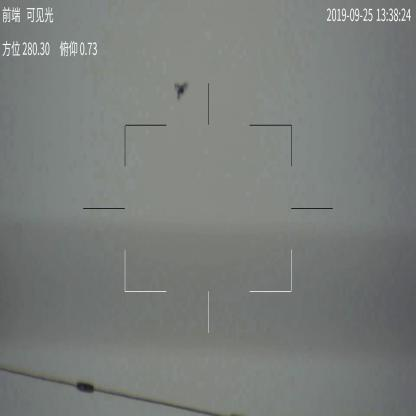uav: (174, 80, 188, 101)
